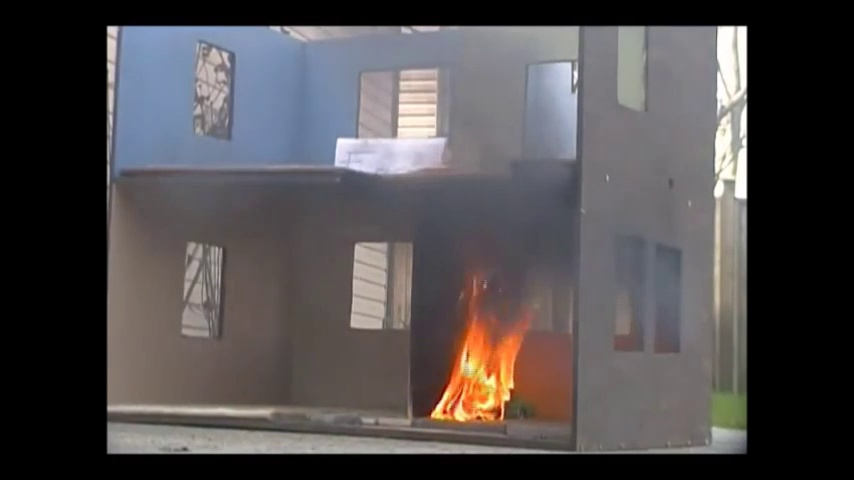fire: (431, 310, 522, 419)
